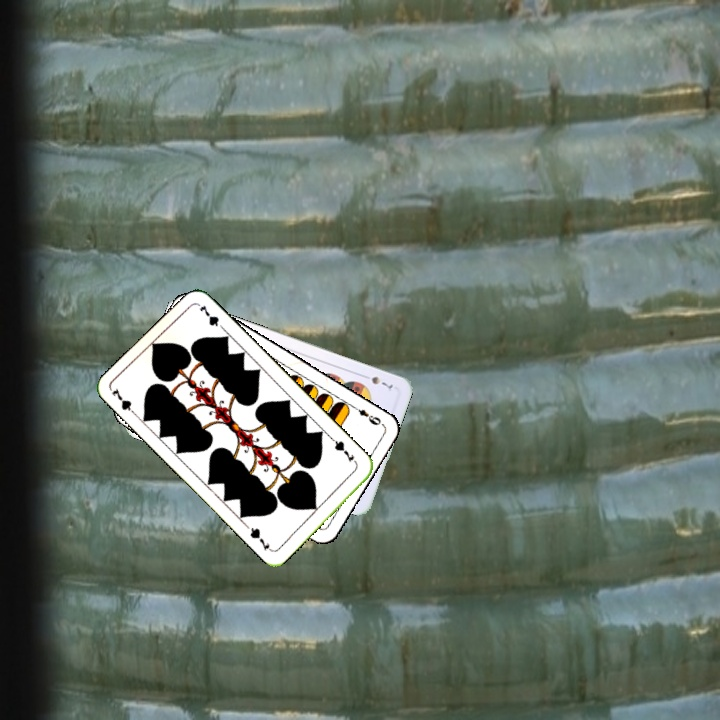E9: (348, 402, 385, 428)
G7: (107, 384, 140, 419), (328, 435, 360, 467)
S7: (358, 370, 396, 391)
